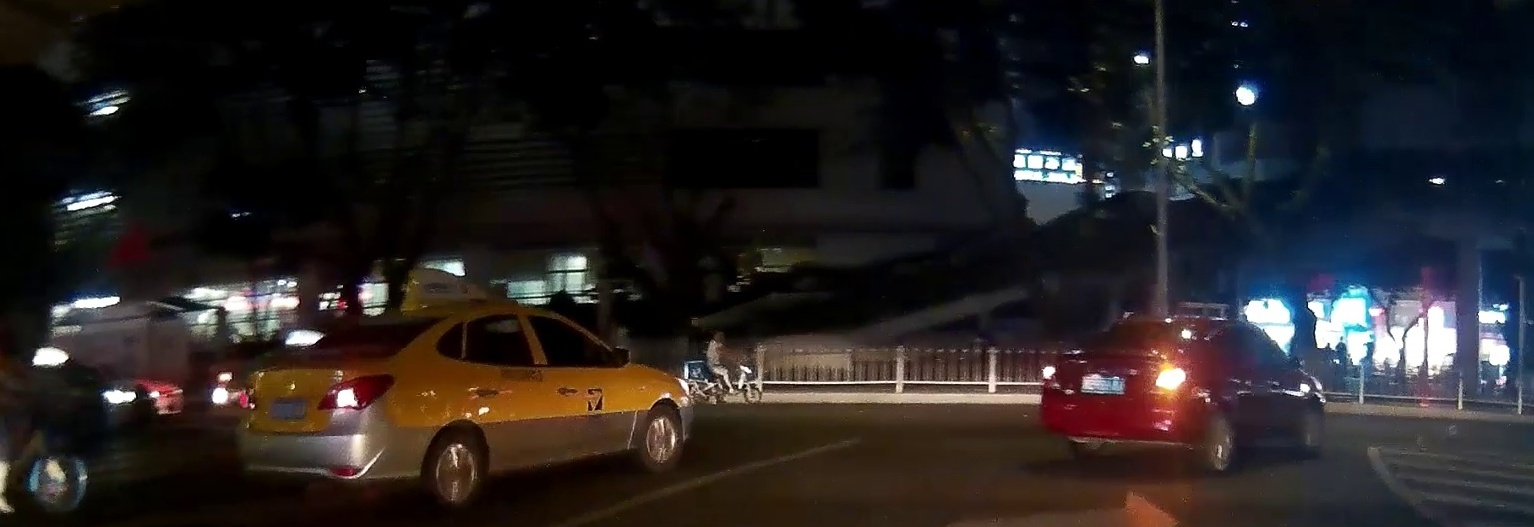L_light: (237, 381, 257, 410), (1042, 365, 1061, 389)
R_light: (317, 373, 394, 410), (1149, 367, 1187, 393)
T_light: (381, 321, 404, 330), (1156, 323, 1179, 330)
night-right: (233, 305, 449, 511), (1039, 314, 1224, 472)
